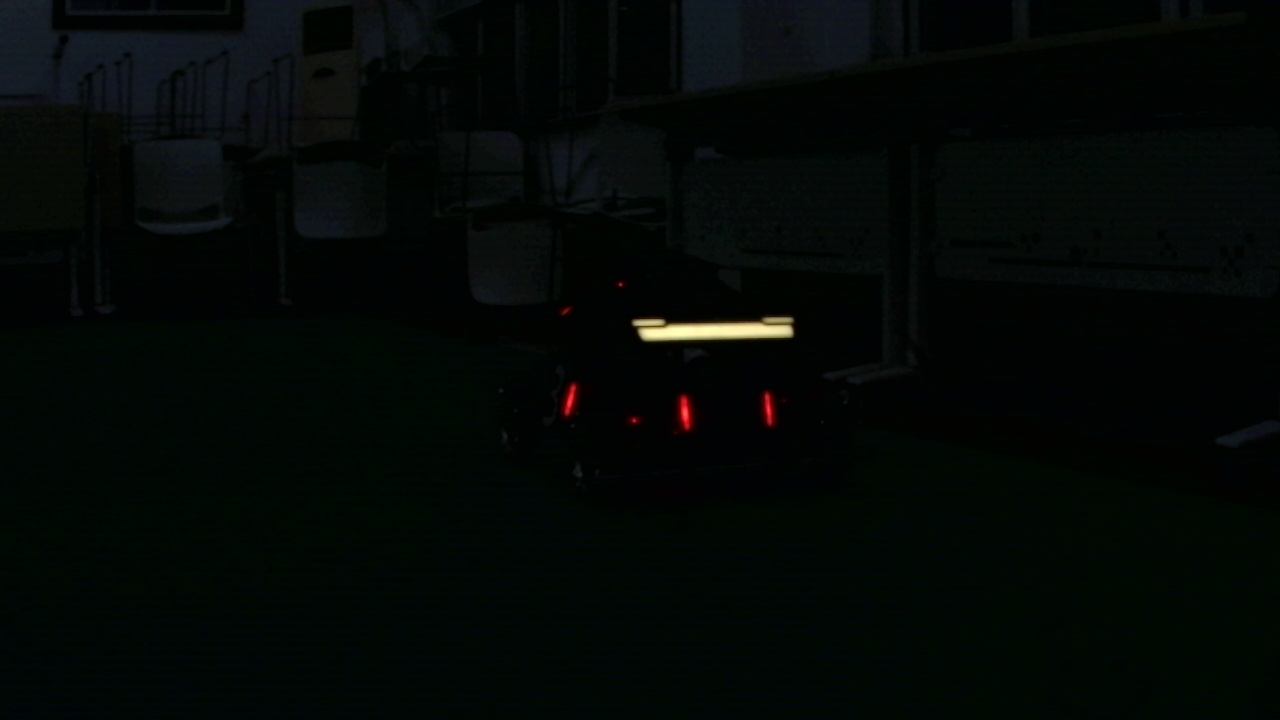lamp: (677, 393, 693, 430), (560, 382, 574, 415), (760, 393, 774, 424)
pair1: (678, 389, 774, 429)
